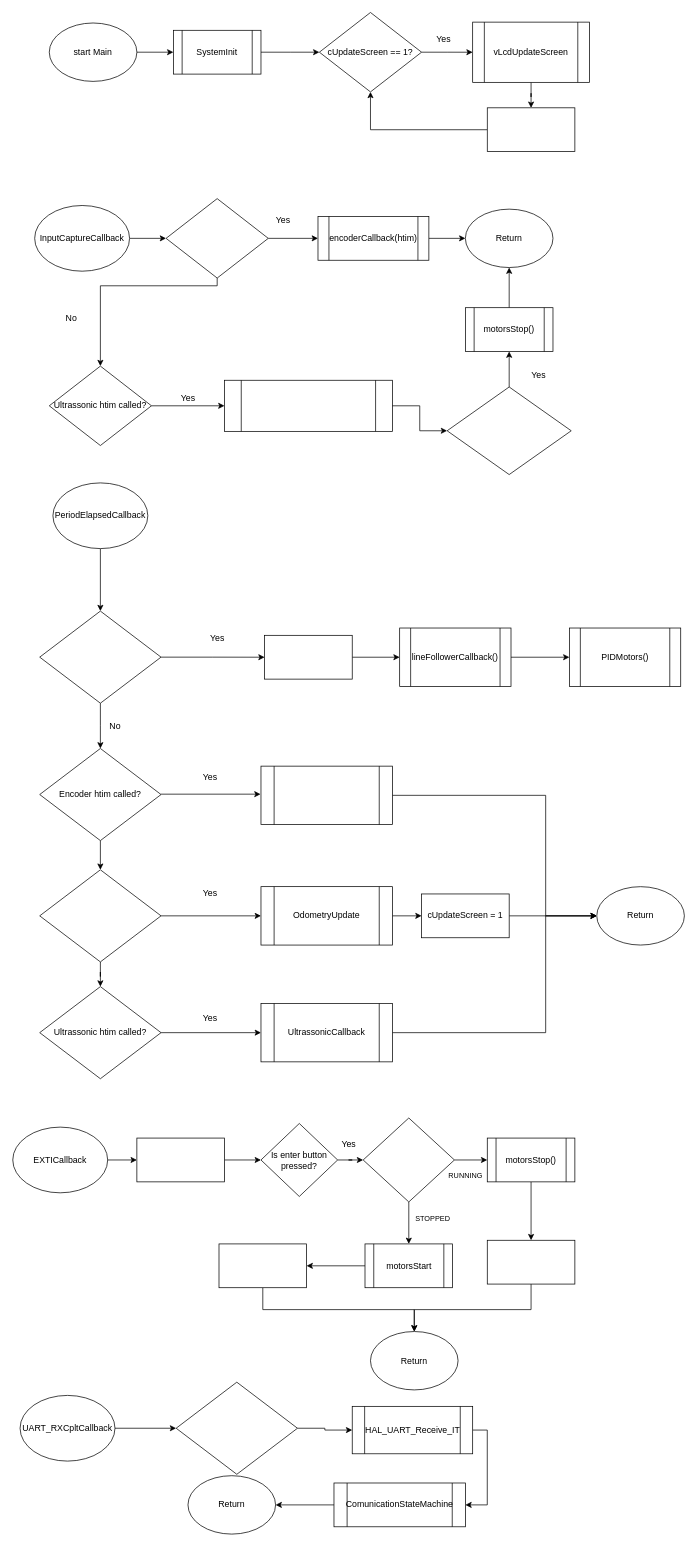
Image size: 697x1548. Some labels were removed from this diagram. The centre of each missing label's shape, as x and y in pixels:
cUpdateScreen = 0: the point at 531,129
encoderOverflowCallback: the point at 326,795
Encoders htim called?: the point at 216,238
Huart3 called?: the point at 236,1427
Is enter button state on STOPPED or RUNNING?: the point at 408,1159
LineFollower timer called it?: the point at 100,656
Odometry htim called?: the point at 100,915
Read buttons state: the point at 180,1159
Set State to RUNNNIG: the point at 262,1265
Set State to STOPPED: the point at 531,1262
ultraSonicSensorCakllback(htim): the point at 308,405
Ultrassonic distance < 10 cm?: the point at 508,430
xS = GetLineSensorState(): the point at 308,657
